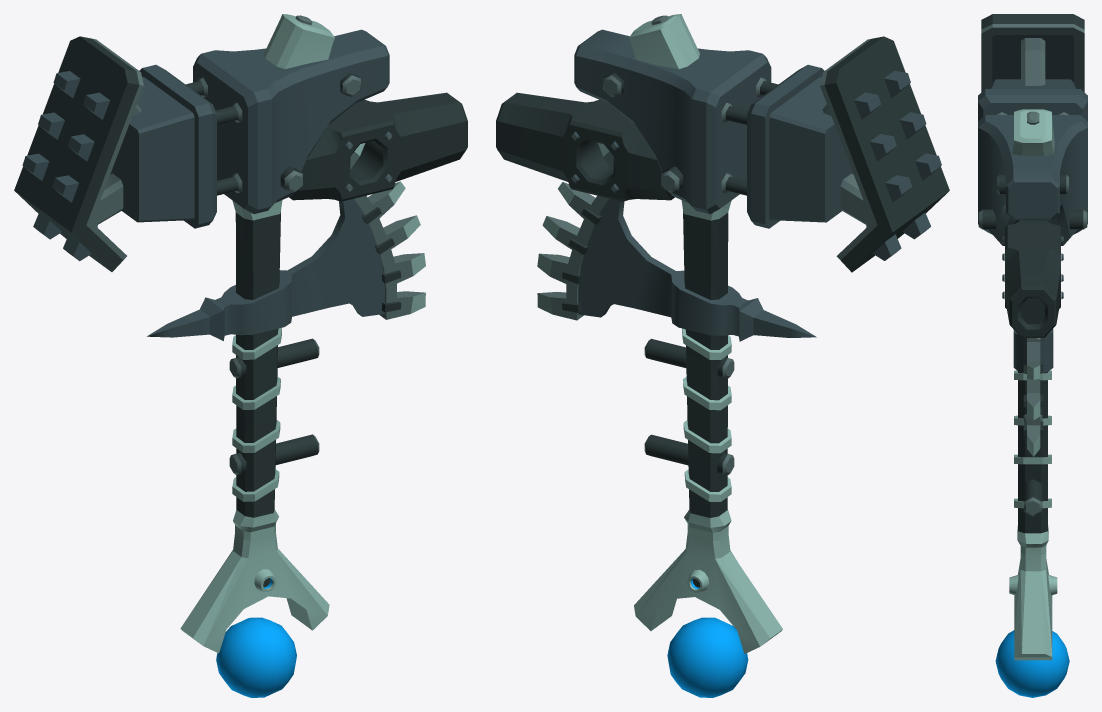
Rendered from hammer_drone.FBX.
3 renders of one model, left to right at view 1: azimuth 30°, elevation 25°; view 2: azimuth 150°, elevation 25°; view 3: azimuth 270°, elevation 25°, orthographic. The views are drawn at different scales.
Parts seen in each view (by area): view 1: Object027; view 2: Object027; view 3: Object027.
Part boxes in pixels (x1,y1,x2,y2): Object027: (14, 14, 467, 697); Object027: (496, 14, 949, 697); Object027: (978, 14, 1087, 697).
Size of the model in its own units: 51.27 by 13.06 by 80.49.
